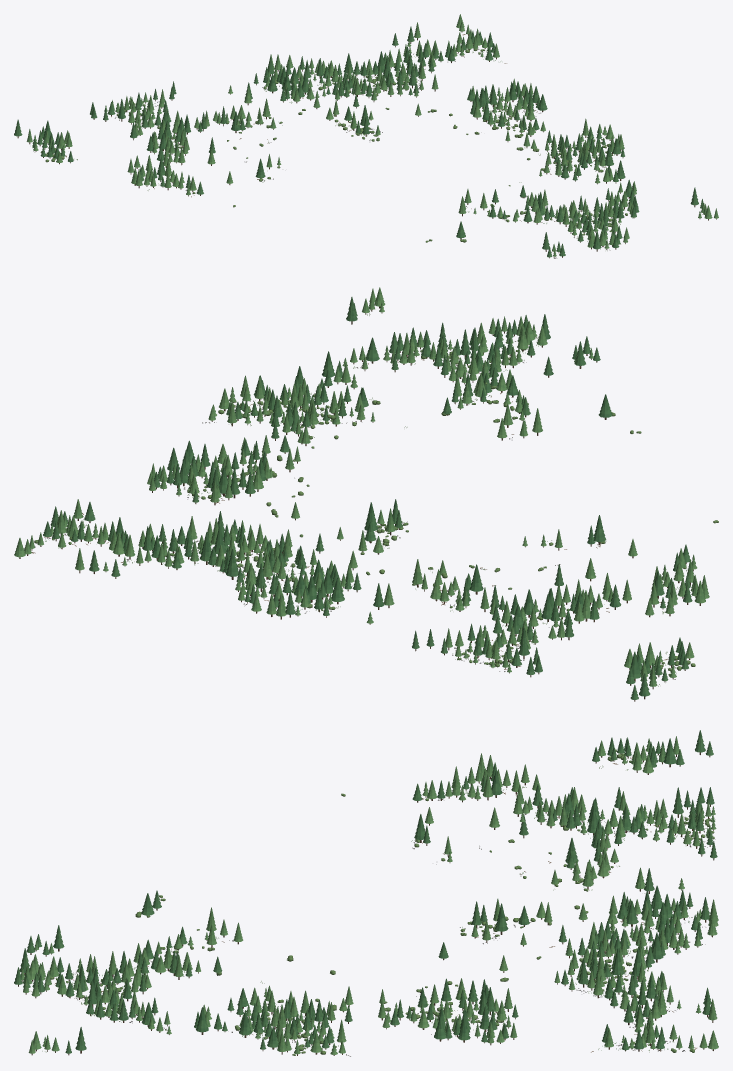
File: Foliage_P2.fbx
3 renders of one model, top to bottom at view 1: azimuth 30°, elevation 25°; view 2: azimuth 150°, elevation 25°; view 3: azimuth 270°, elevation 25°, orthographic. The views are drawn at different scales.
Bounding box in the file's own units: 61254 × 6134 × 61445.
